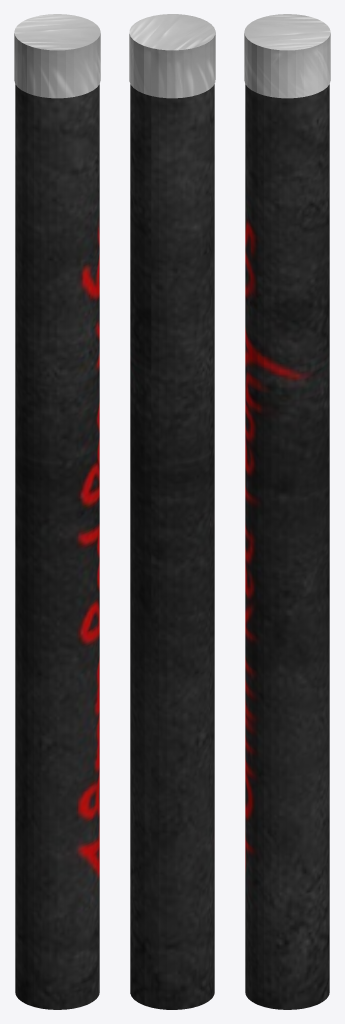
Rendered from 48mmRedPeonyCandle.fbx.
The picture shows the model from 3 angles, left to right: view 1: azimuth 90°, elevation 25°; view 2: azimuth 150°, elevation 25°; view 3: azimuth 270°, elevation 25°; orthographic projection.
Visible parts, largest first — view 1: 40mmCandle, Top Cap; view 2: 40mmCandle, Top Cap; view 3: 40mmCandle, Top Cap.
Boxes of the visible parts, <box> form: 40mmCandle: <box>15,84,99,1009</box>; Top Cap: <box>14,14,100,98</box>; 40mmCandle: <box>130,84,214,1009</box>; Top Cap: <box>129,14,215,98</box>; 40mmCandle: <box>245,84,329,1009</box>; Top Cap: <box>244,14,330,98</box>.
Size of the model in its own units: 9.8 by 120 by 9.8.
